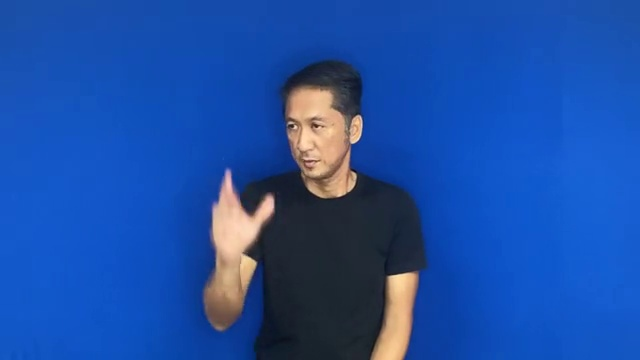chicken: (184, 160, 284, 267)
